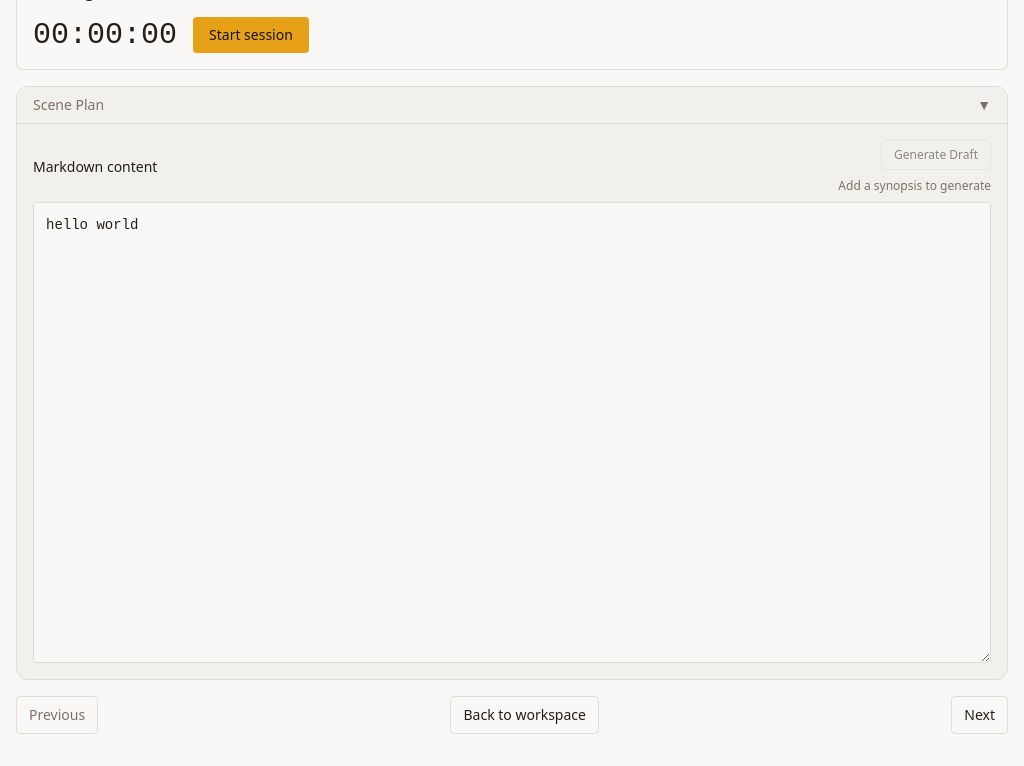
Test: SceneEditorShell › updates word count when scene content changes
(page scrolled)
Replace the text in the text box labelled "Markdown content" with "one two three" at (512, 432), box [33,202,991,663]
(page scrolled)
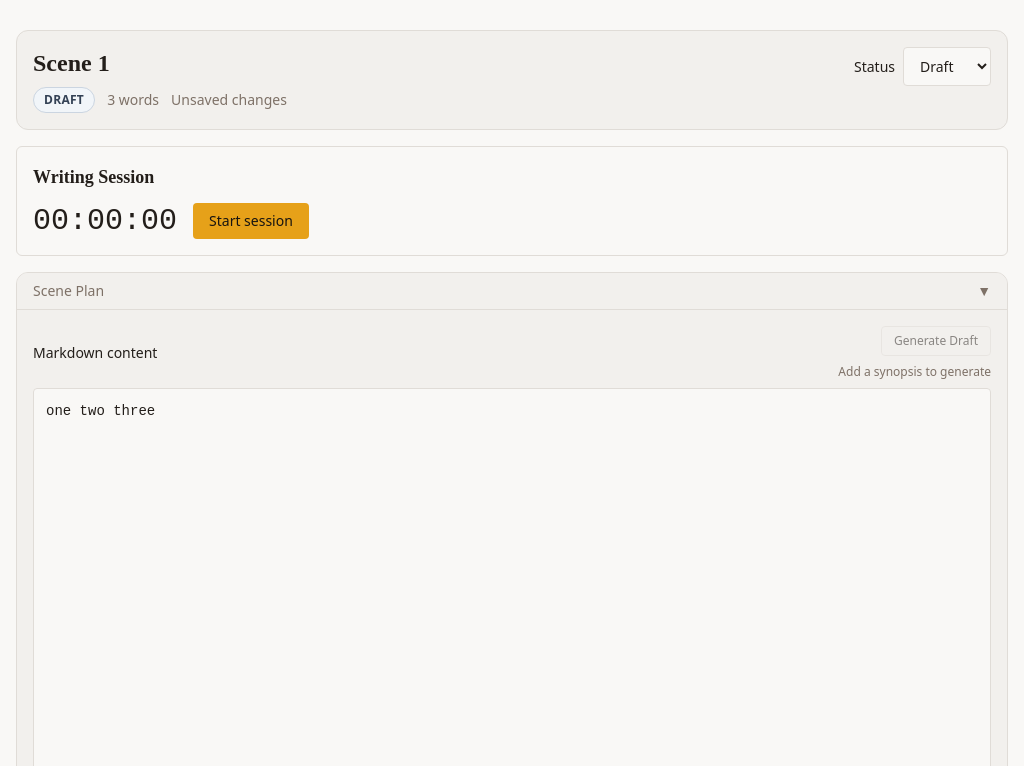
Check: the text "3 words" is shown, box [107,90,159,110]
